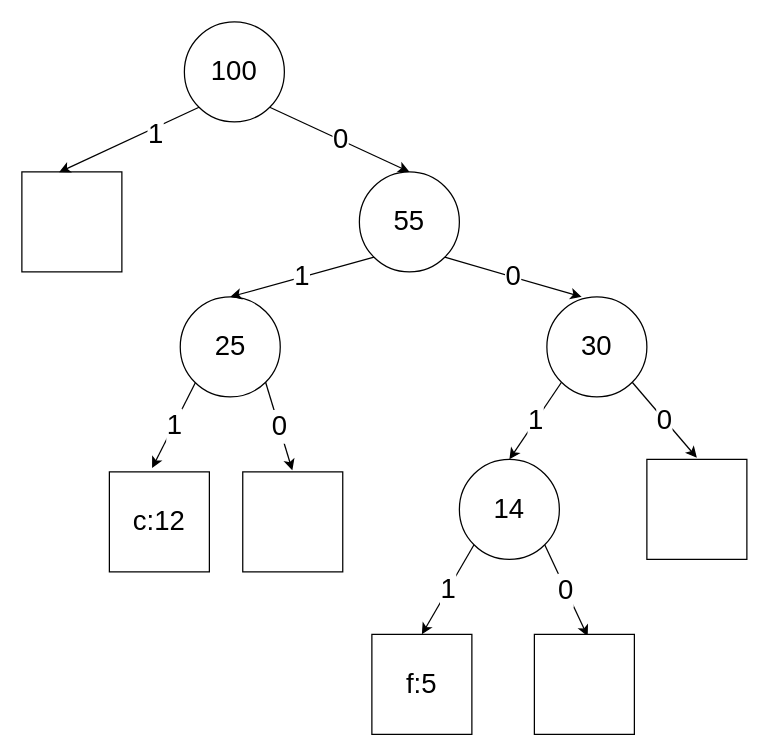
Some shapes in this 769 by 756 pixel diagram are drawn without their labels. The shapes that lost their labels are listed below. From the top down, each one's centre as x and y in pixels, then its label:
At point 71,221: "a:45".
At point 292,521: "b:13".
At point 696,508: "d:16".
At point 583,683: "e:9".
